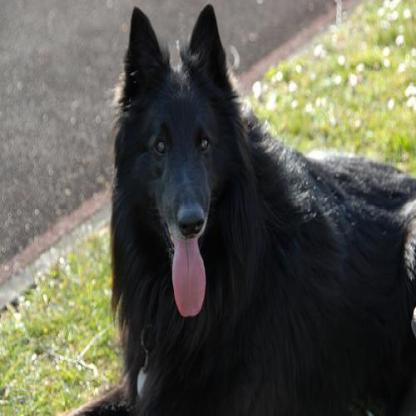groenendael: (69, 2, 414, 414)
